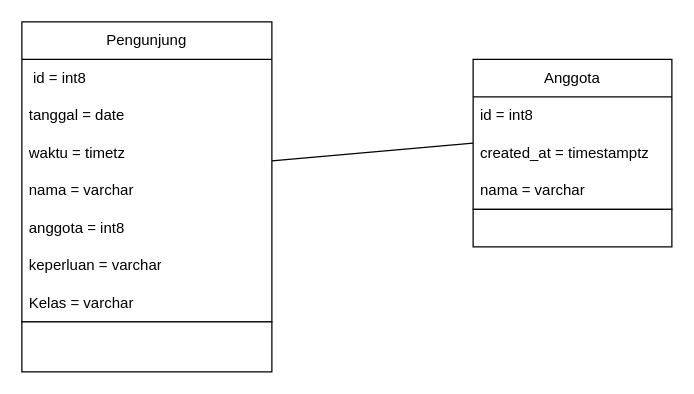
The diagram is 694 pixels wide and 394 high, and some of its shapes have lost their labels. The shapes that lost their labels are listed below. From the top down, each one's centre as x and y in pixels, then its label:
pixel 572 227: LihatAnggota()
pixel 146 346: IsiKunjungan() LihatKunjungan()
